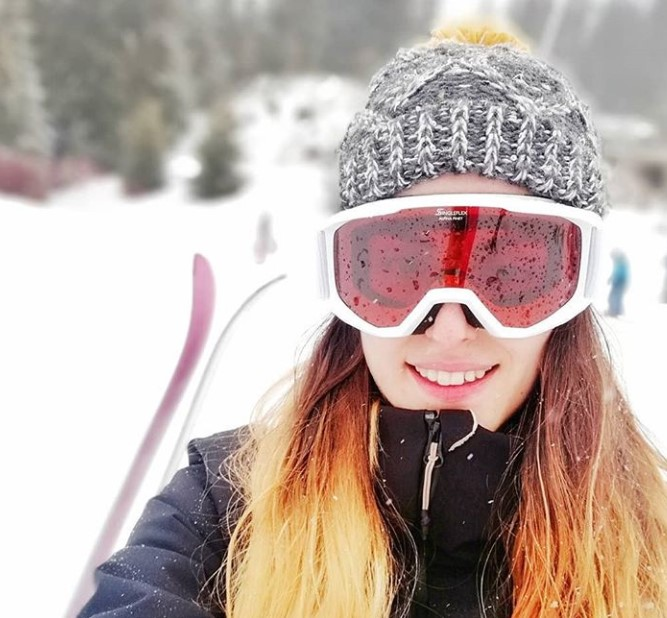face_no_mask: (341, 136, 593, 446)
